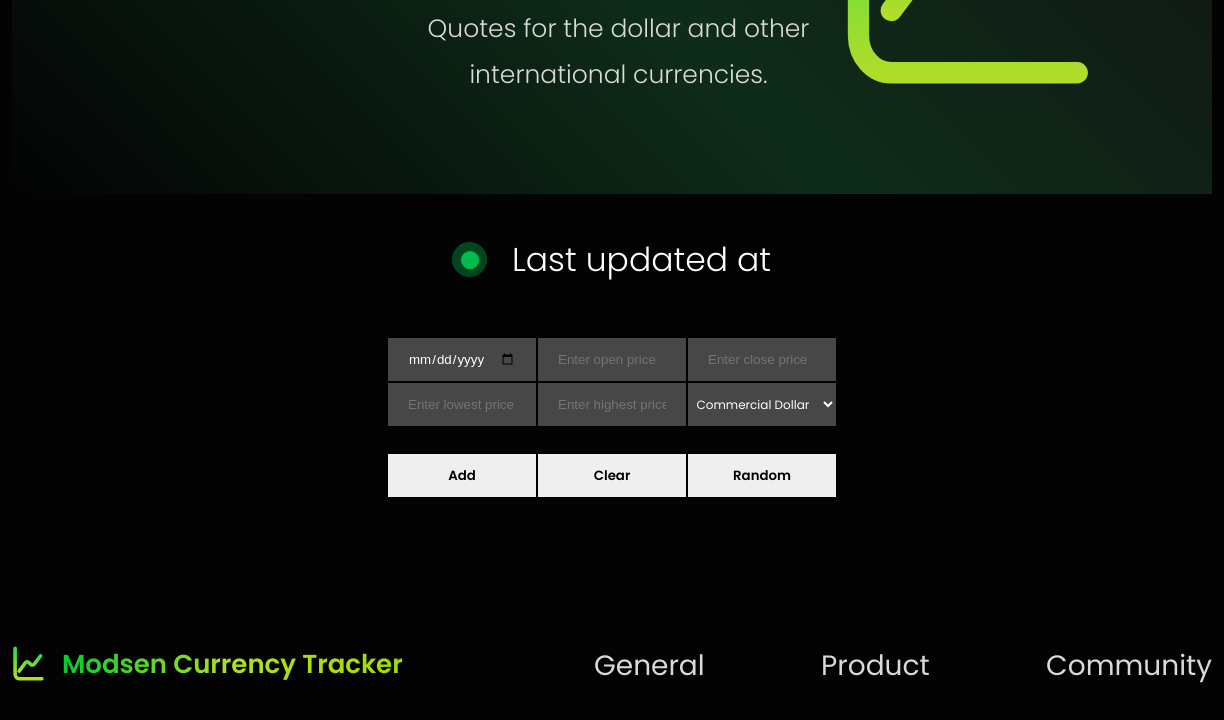
Test: timeline spec › try add chart with inputs
(page scrolled)
In the date field with test id "timeline_date": (462, 360) top-left (387, 337), bottom-right (537, 382), type "2024-05-10"
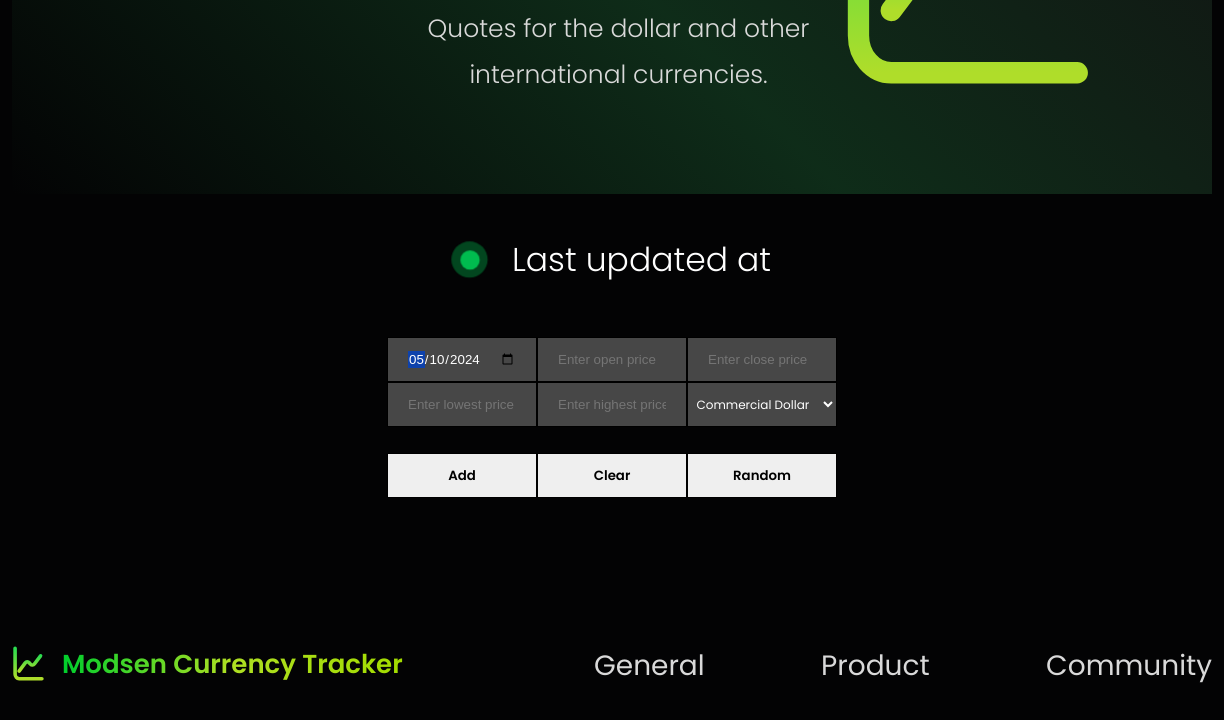
In the field with test id "timeline_open": (612, 360) top-left (537, 337), bottom-right (687, 382), type "100"
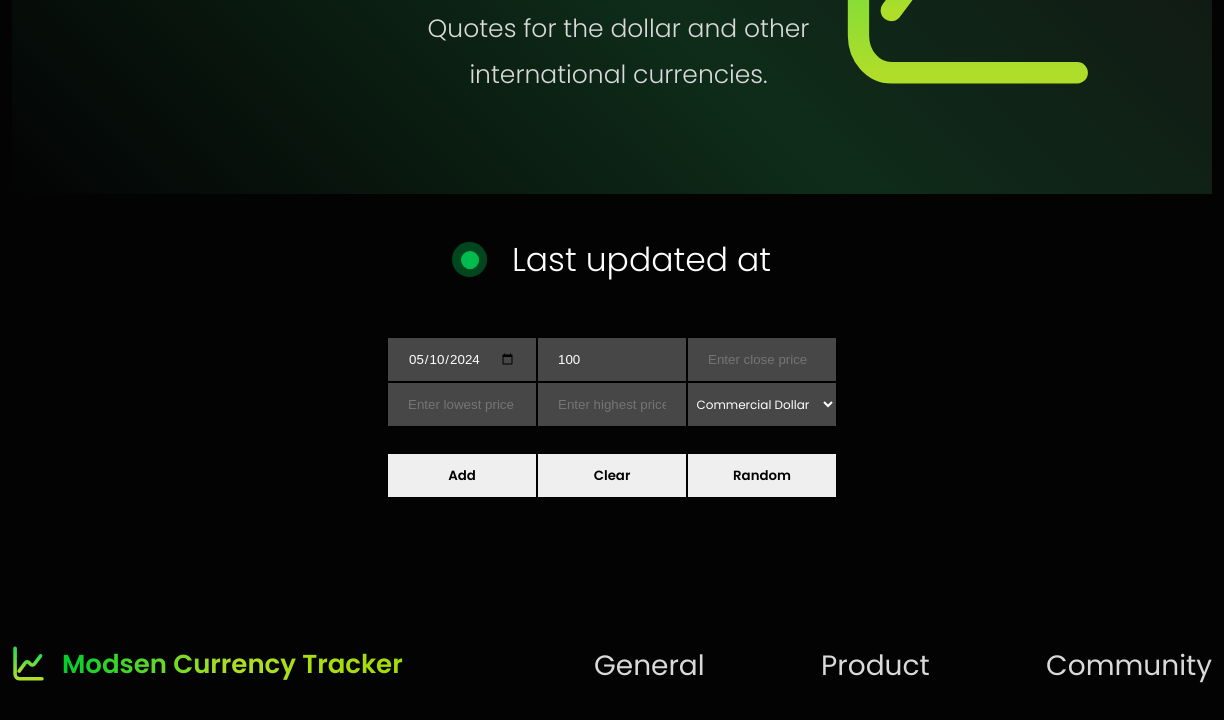
In the field with test id "timeline_close": (762, 360) top-left (687, 337), bottom-right (837, 382), type "200"
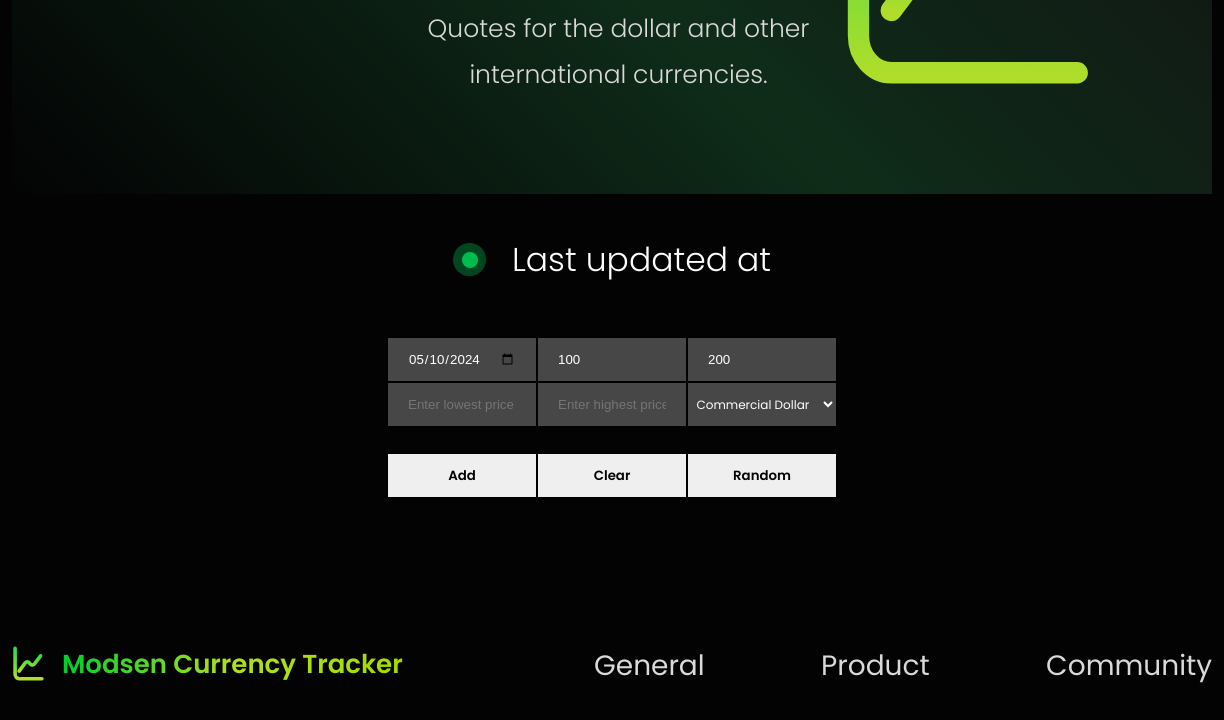
In the field with test id "timeline_high": (612, 405) top-left (537, 382), bottom-right (687, 427), type "500"
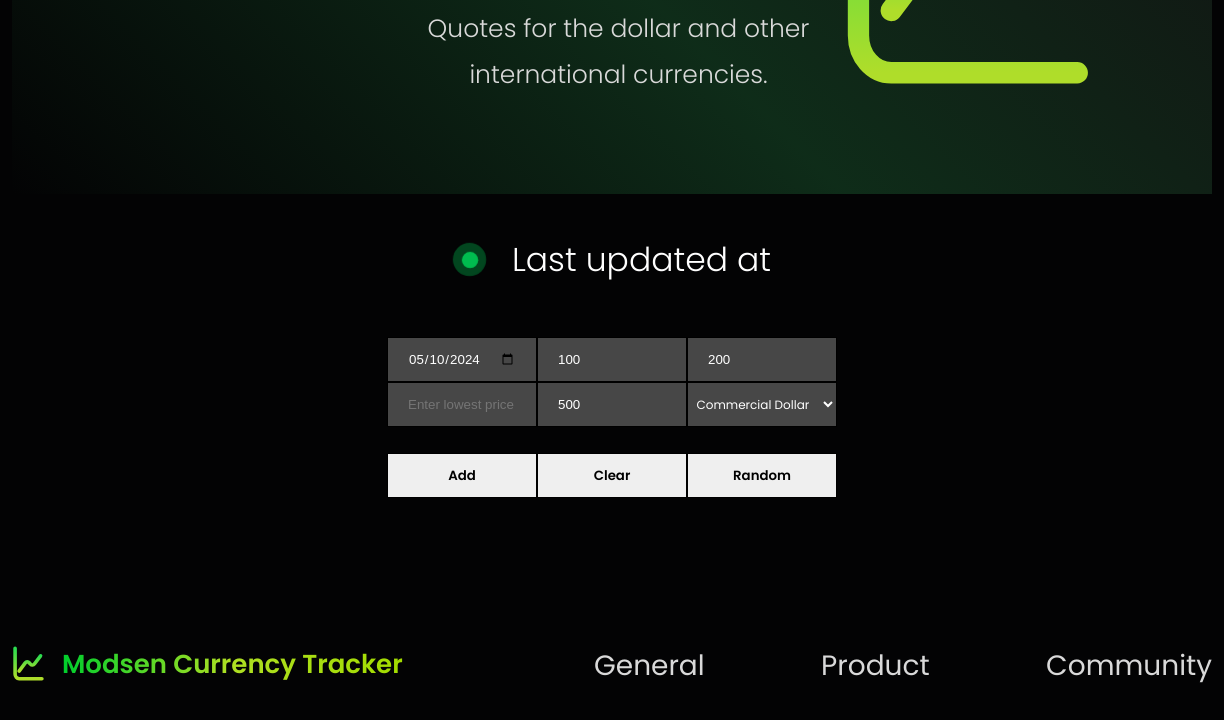
In the field with test id "timeline_low": (462, 405) top-left (387, 382), bottom-right (537, 427), type "50"
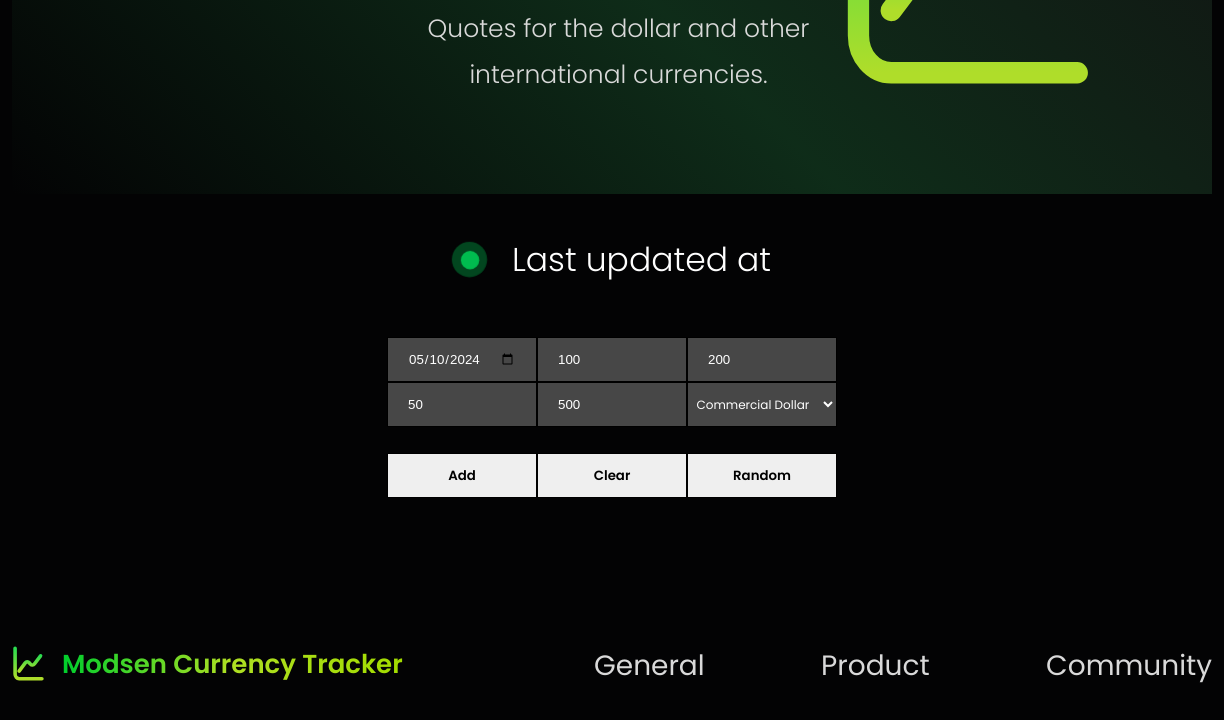
Click the button with test id "timeline_add": (462, 476) top-left (387, 453), bottom-right (537, 498)
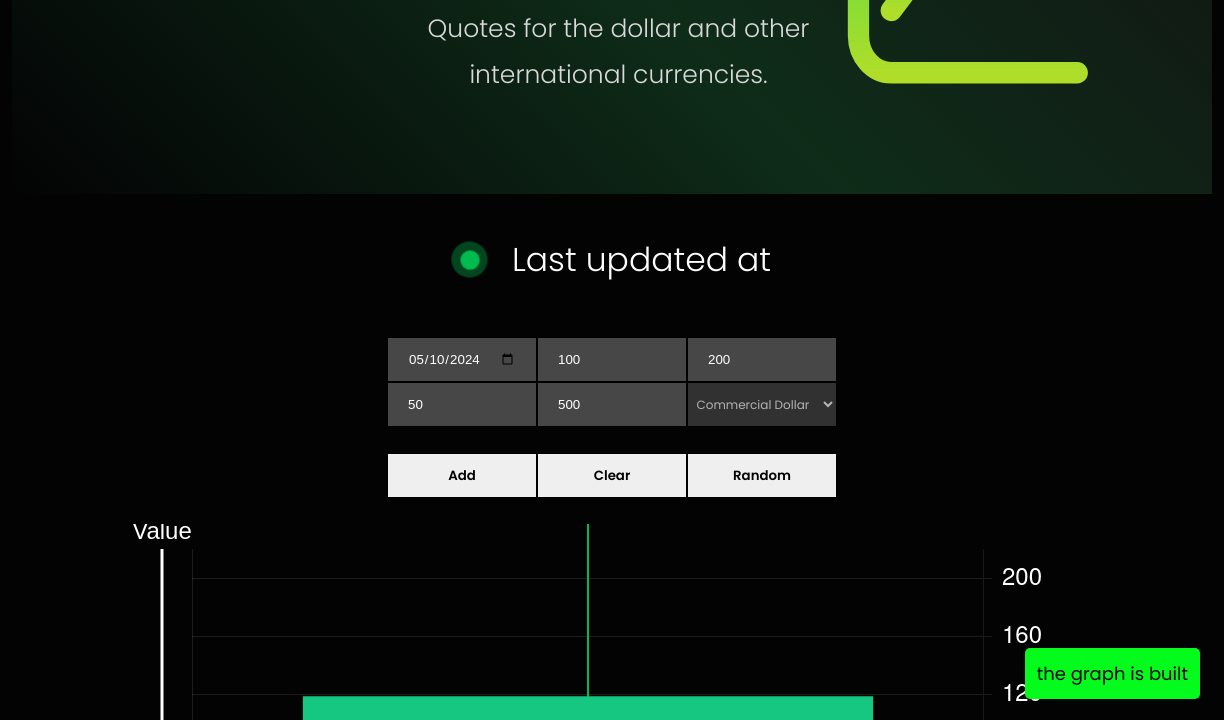
expect the text "the graph is built" is shown: met, box top-left (1037, 660), bottom-right (1188, 687)
